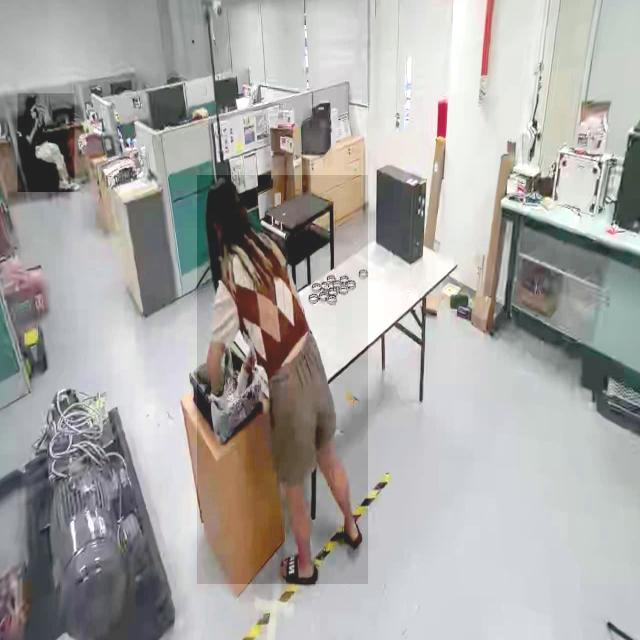hand_glove: (233, 358, 252, 398)
head_nohelmet: (206, 175, 242, 205)
person: (196, 175, 368, 585), (17, 93, 75, 193)
